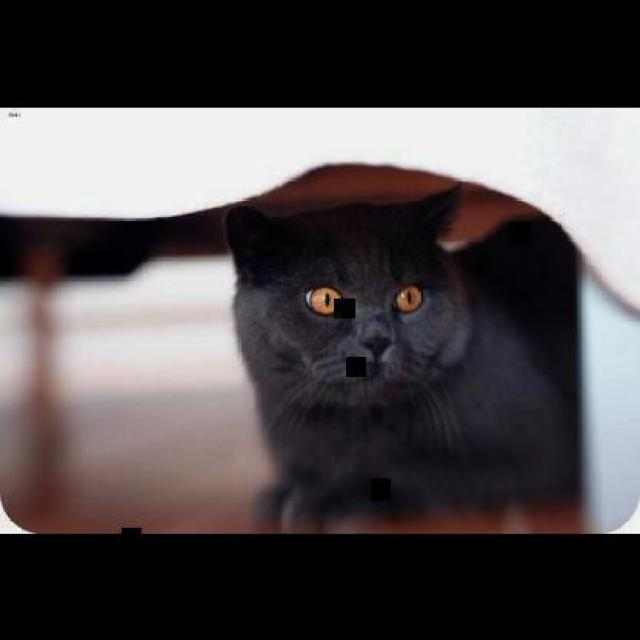unauthorized: (222, 180, 580, 531)
